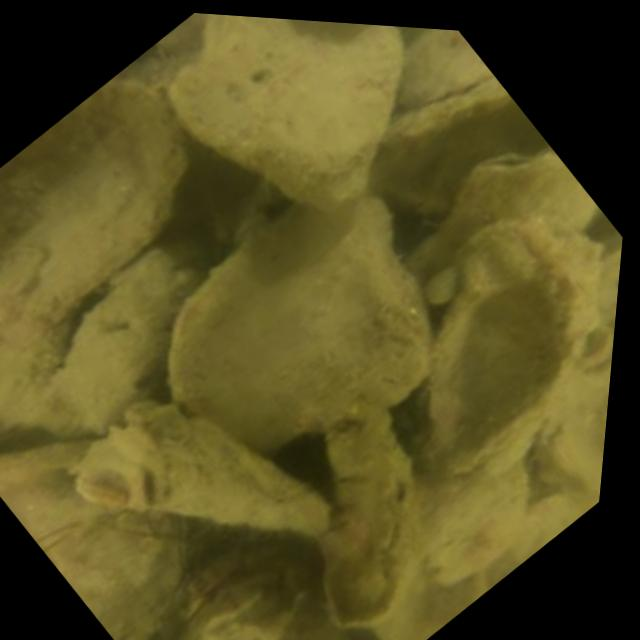Oyster-Indeterminate: (170, 186, 435, 443), (426, 207, 612, 475), (163, 14, 412, 211), (0, 76, 192, 331), (73, 398, 339, 541), (2, 485, 195, 640), (405, 149, 600, 300), (371, 74, 560, 215), (318, 402, 429, 629)
